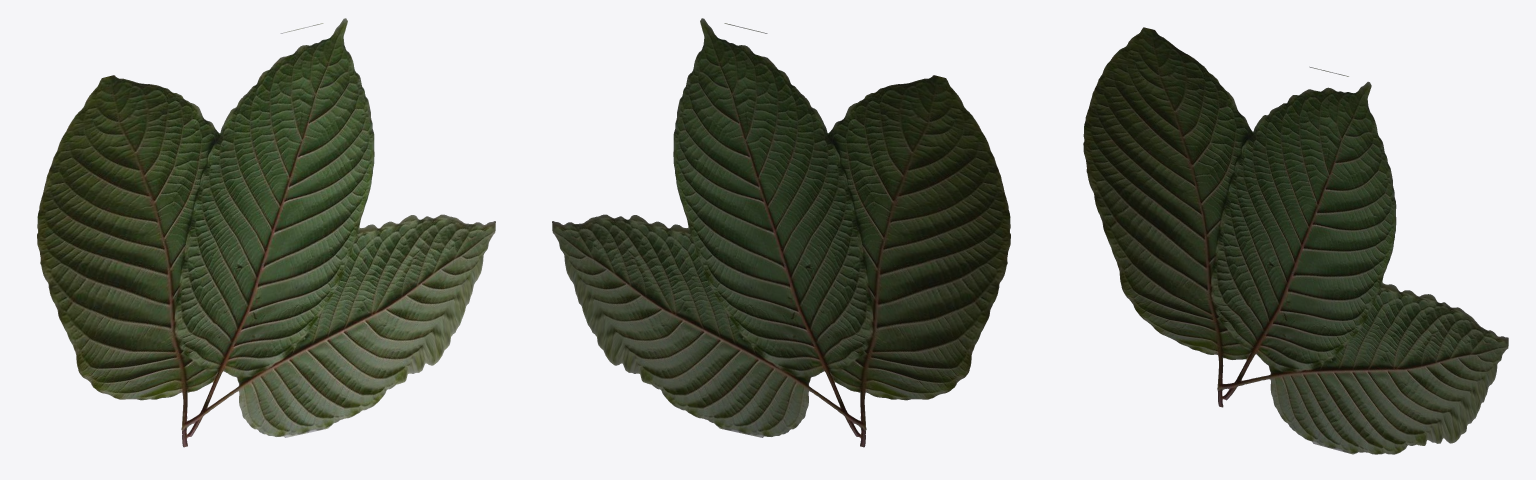
The model's file is tom.fbx.
3 renders of one model, left to right at view 1: azimuth 30°, elevation 25°; view 2: azimuth 150°, elevation 25°; view 3: azimuth 330°, elevation 25°, orthographic. The views are drawn at different scales.
Visible parts, largest first — view 1: tom; view 2: tom; view 3: tom.
Boxes of the visible parts, bbox=[...] form: tom: bbox=[37, 18, 495, 447]; tom: bbox=[552, 18, 1010, 447]; tom: bbox=[1083, 27, 1508, 454].
Size of the model in its own units: 82.09 by 64.65 by 2.91e-06.
1 material, 1 textured.
